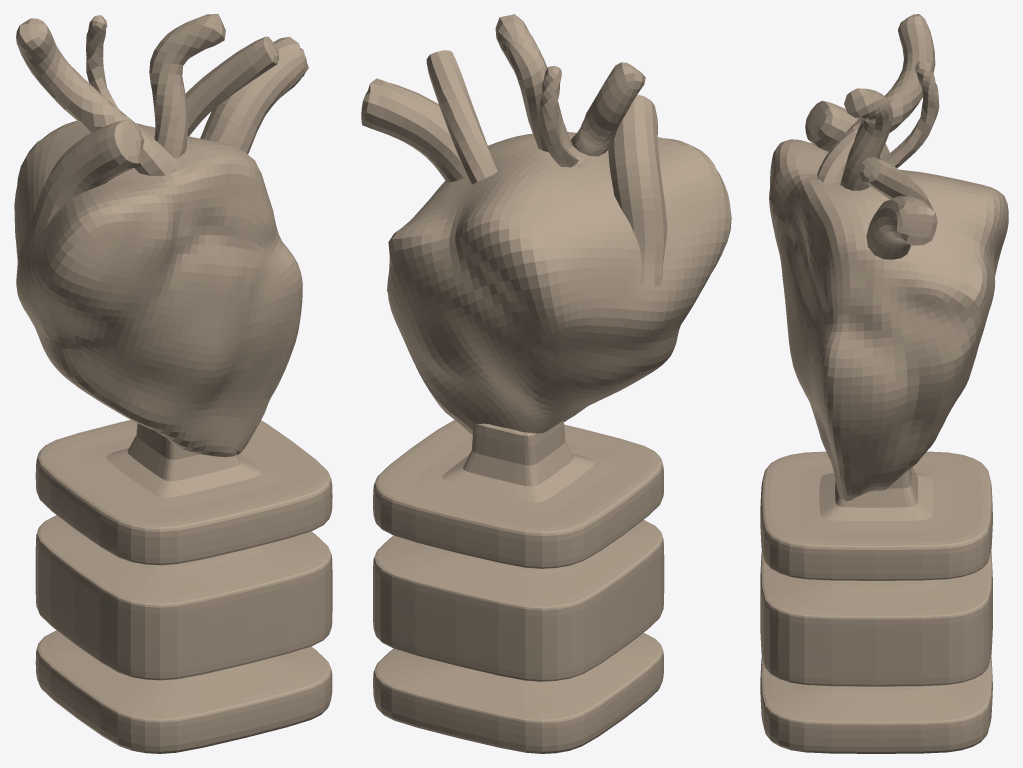
The model's file is TokenCorazon.fbx.
3 views of the same model, side by side, from view 1: azimuth 30°, elevation 25°; view 2: azimuth 150°, elevation 25°; view 3: azimuth 270°, elevation 25° (orthographic). The views are drawn at different scales.
Parts seen in each view (by area): view 1: TokenCORAZON; view 2: TokenCORAZON; view 3: TokenCORAZON.
Part boxes in pixels (x1,y1,x2,y2): TokenCORAZON: (14, 14, 332, 753); TokenCORAZON: (361, 14, 731, 753); TokenCORAZON: (760, 14, 1008, 753).
Size of the model in its own units: 70.58 by 150 by 53.26.
